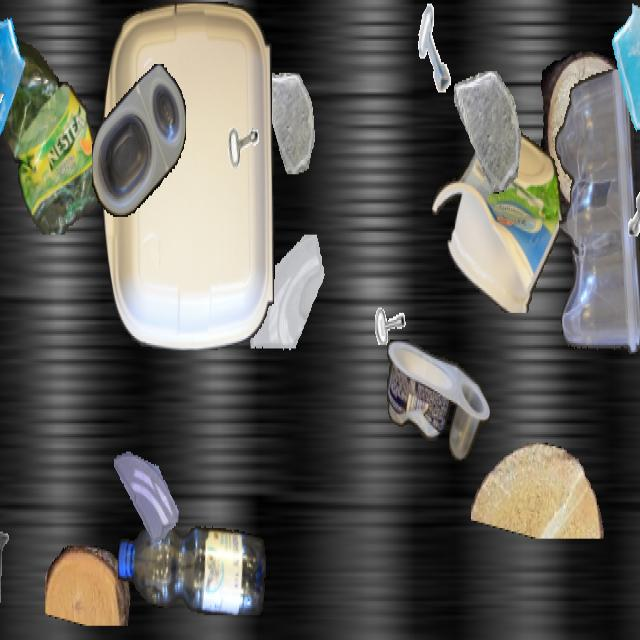glass: (248, 234, 330, 380), (454, 71, 522, 192), (114, 441, 178, 555), (260, 73, 316, 172), (608, 2, 640, 133), (0, 2, 25, 140)
metal: (209, 73, 269, 179), (410, 2, 462, 94), (365, 265, 409, 343), (0, 528, 26, 628), (620, 174, 640, 249), (0, 92, 16, 164), (0, 366, 15, 434)
plastic: (102, 2, 274, 350), (552, 69, 640, 361), (432, 124, 562, 313), (0, 21, 102, 235), (92, 64, 186, 217), (118, 519, 266, 615), (387, 340, 489, 460)
wood: (538, 52, 634, 212), (471, 442, 607, 538), (45, 546, 131, 624)
